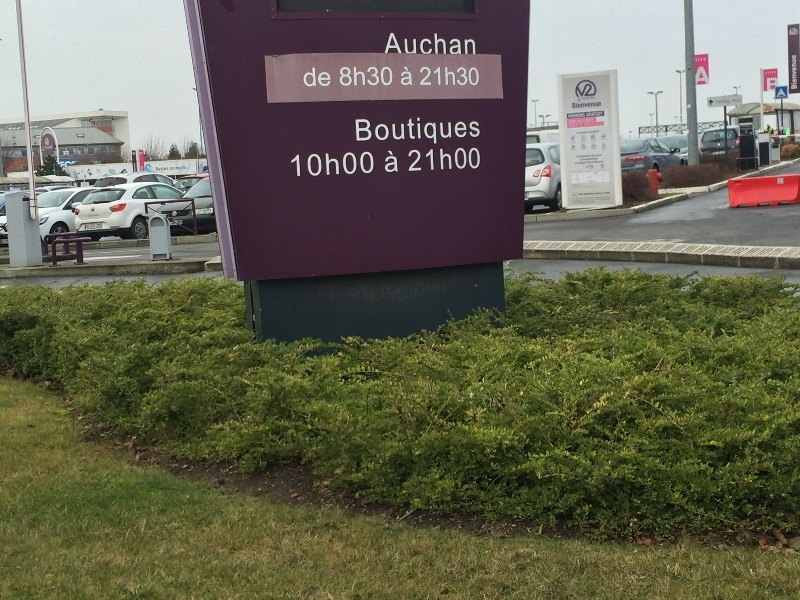text: (305, 150, 320, 180), (321, 150, 336, 180), (337, 150, 352, 180), (353, 150, 368, 180), (369, 116, 384, 146), (385, 116, 400, 146), (401, 116, 416, 146), (417, 116, 432, 146), (433, 116, 448, 146), (449, 116, 464, 146), (465, 116, 480, 146), (417, 146, 432, 175), (433, 146, 448, 175), (449, 146, 464, 175), (465, 146, 480, 175), (290, 150, 304, 180), (354, 116, 368, 146), (789, 53, 800, 91), (401, 31, 416, 57), (417, 31, 432, 57), (433, 31, 448, 57), (449, 31, 464, 57), (305, 67, 320, 91), (353, 64, 368, 88), (369, 64, 384, 88), (385, 149, 399, 174), (465, 31, 478, 57), (338, 64, 352, 88), (465, 67, 481, 88), (405, 146, 416, 175), (433, 67, 448, 88), (449, 67, 464, 88), (418, 67, 432, 88), (321, 67, 333, 91), (389, 31, 400, 57), (401, 66, 413, 88), (577, 112, 592, 129), (385, 64, 394, 88), (369, 150, 376, 180), (577, 191, 592, 205), (593, 191, 608, 205), (593, 112, 605, 129), (577, 154, 592, 166), (769, 77, 779, 93), (697, 65, 704, 87), (593, 154, 605, 166), (568, 112, 576, 129), (577, 101, 592, 110), (705, 65, 711, 87), (161, 166, 176, 173), (721, 98, 736, 105), (177, 166, 189, 173), (593, 101, 602, 110), (572, 191, 576, 205), (609, 191, 612, 205), (572, 101, 576, 110), (155, 166, 160, 173), (715, 98, 720, 105), (766, 77, 768, 93), (481, 116, 482, 146), (481, 146, 482, 175), (737, 98, 741, 105), (383, 149, 384, 174), (303, 67, 304, 91), (399, 66, 400, 88), (575, 154, 576, 166)
